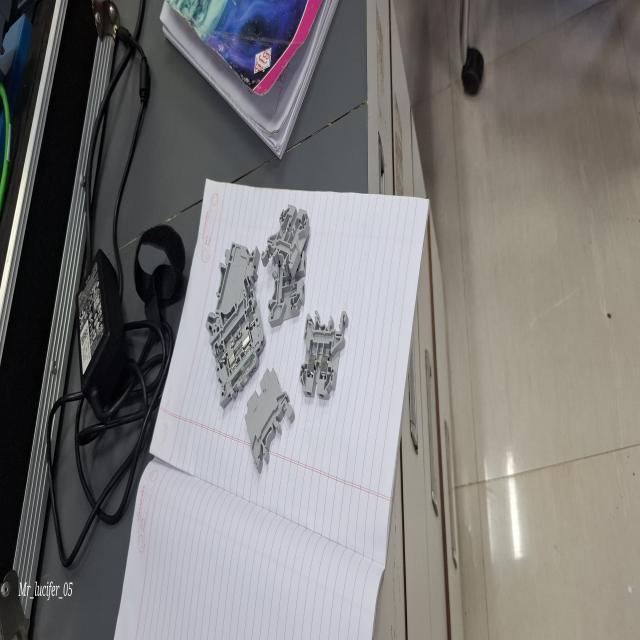Inverted: (243, 359, 293, 469)
Pass: (299, 309, 350, 412)
Reject: (266, 196, 310, 290)
